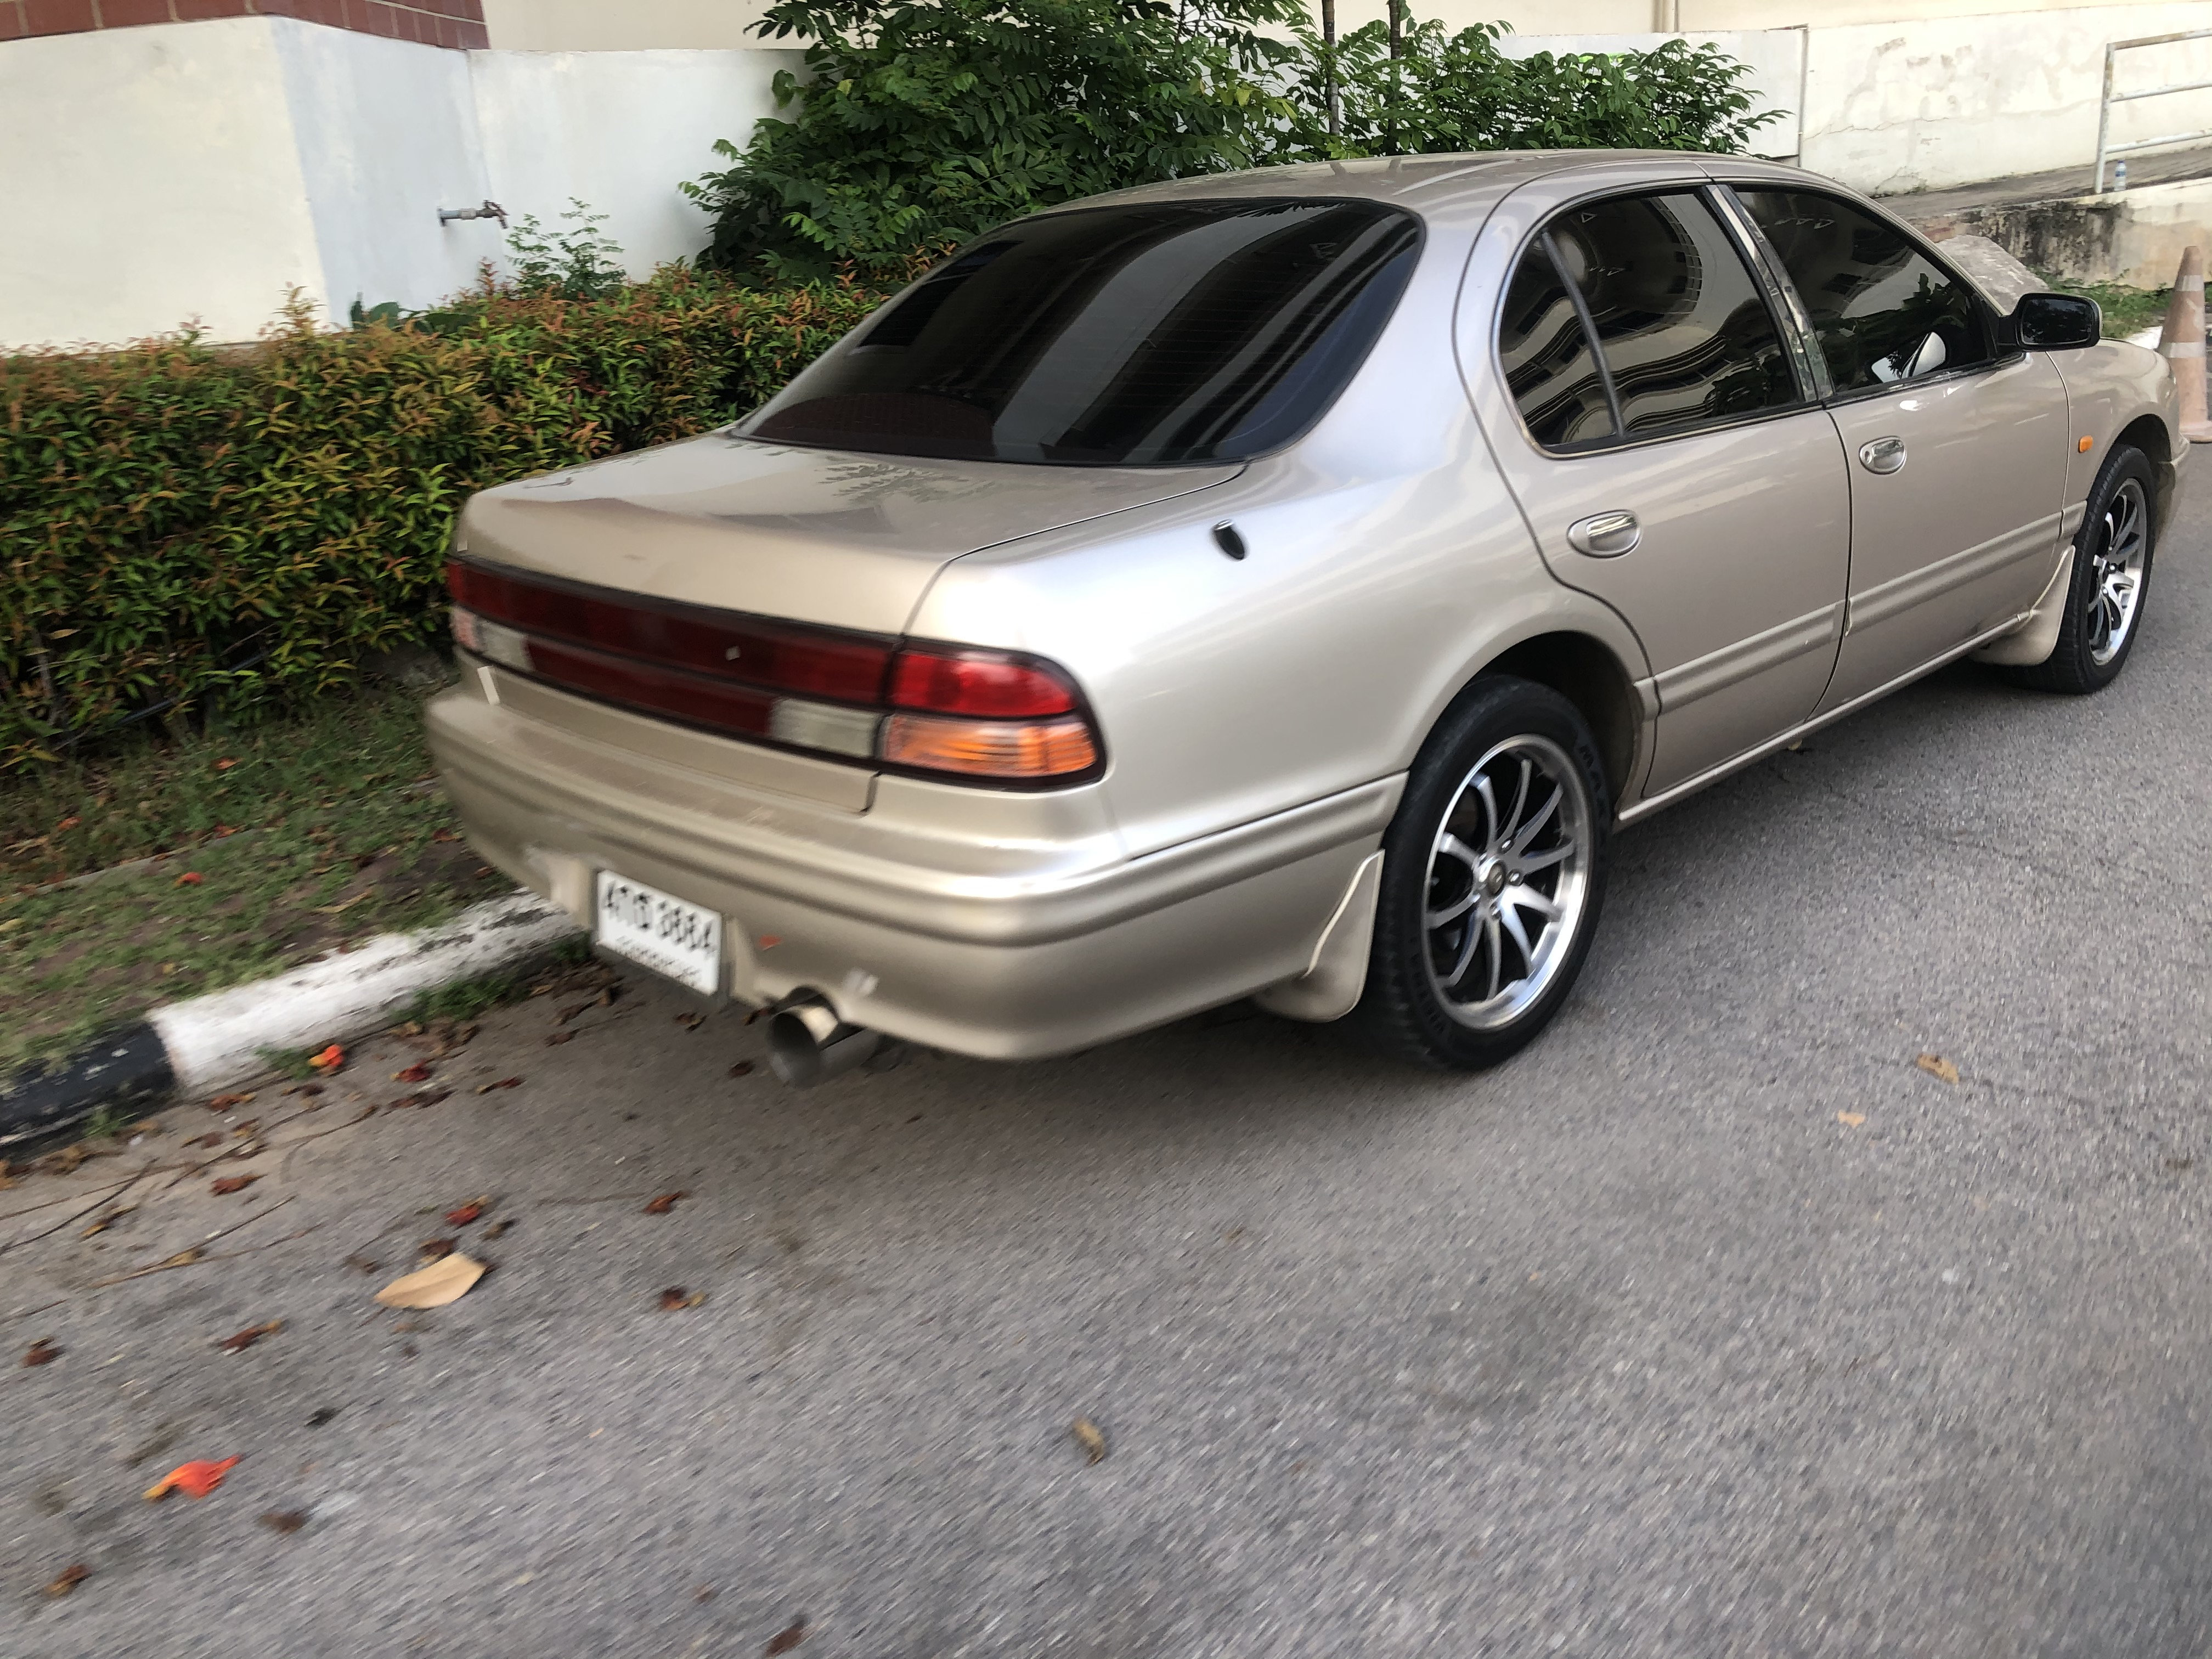in: (601, 870, 725, 993)
